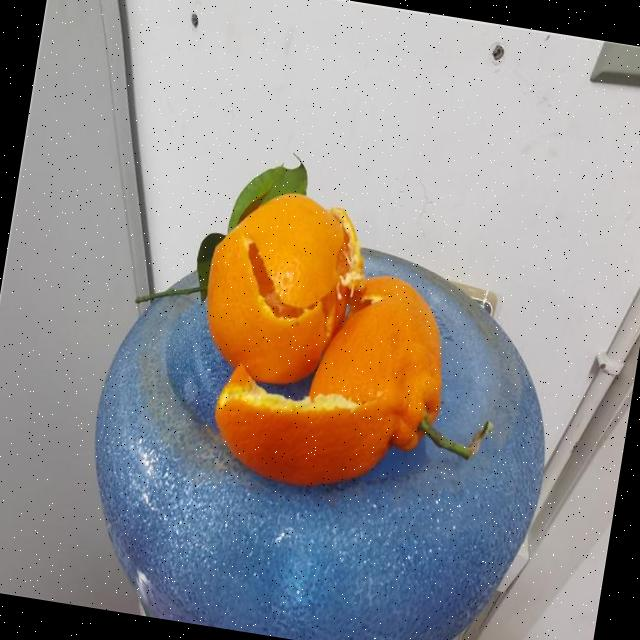orange-peel: (174, 180, 519, 514), (192, 180, 372, 394), (203, 359, 402, 499)
